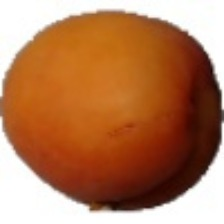apricot: (53, 5, 199, 178)
